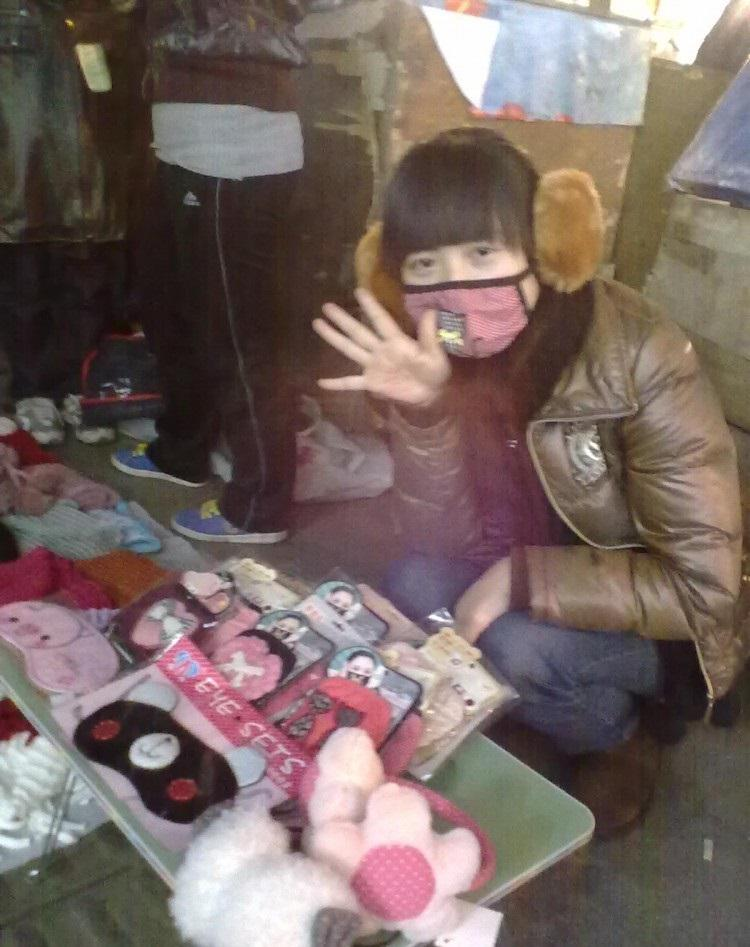OK: (408, 234, 527, 364)
